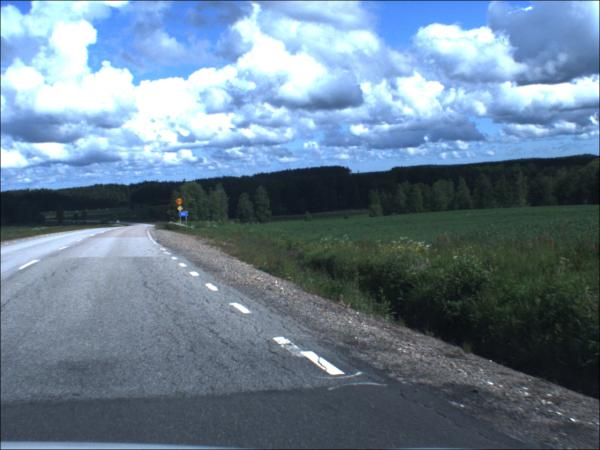80_SIGN: (177, 199, 185, 207)
PRIORITY_ROAD: (179, 208, 185, 214)
